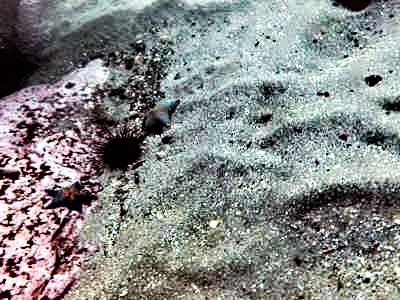urchin: (95, 127, 138, 168)
